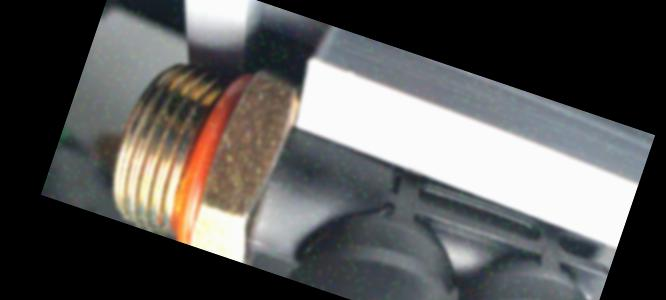joint line: (266, 241, 293, 256)
white mark: (245, 235, 267, 253)
